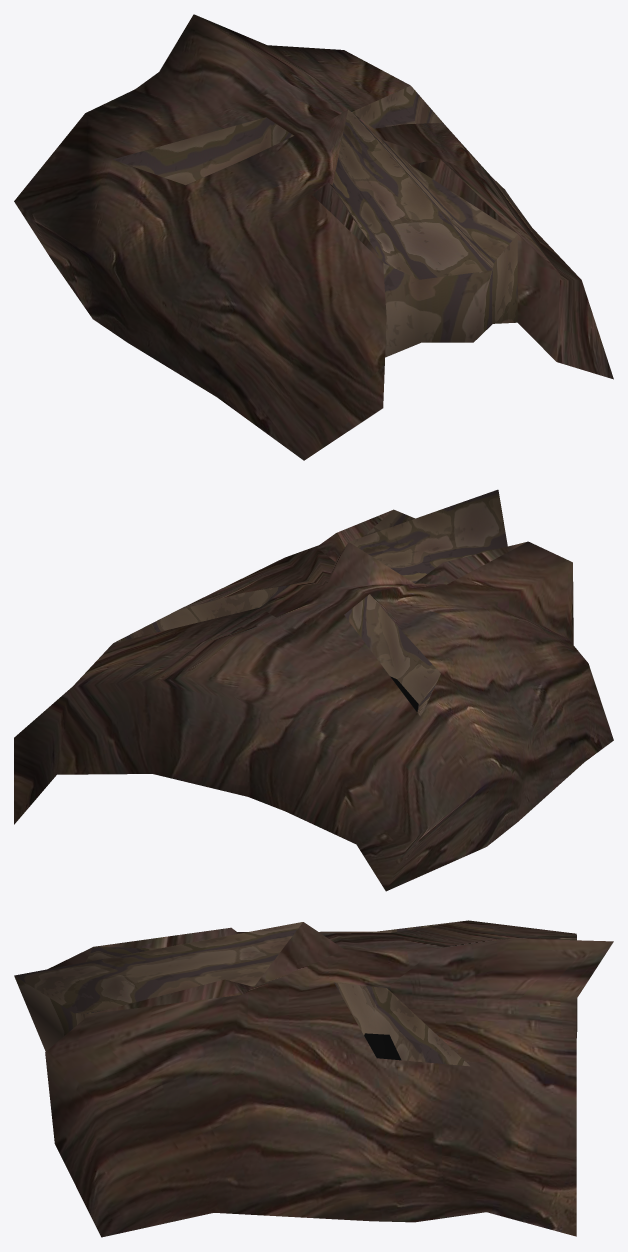
File: Mask_02.fbx
3 views of the same model, one above another, from view 1: azimuth 30°, elevation 25°; view 2: azimuth 150°, elevation 25°; view 3: azimuth 270°, elevation 25° (orthographic). The views are drawn at different scales.
Visible parts, largest first — view 1: Mask_02; view 2: Mask_02; view 3: Mask_02.
Boxes of the visible parts, x1,y1,x2,y2 form: Mask_02: [14, 14, 613, 460]; Mask_02: [14, 489, 613, 891]; Mask_02: [14, 920, 613, 1237].
Size of the model in its own units: 1933 by 1123 by 2592.
